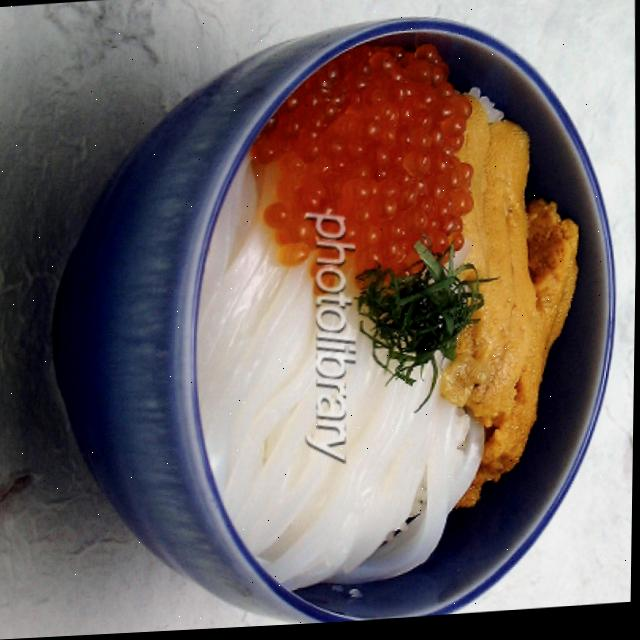刺身生食: (35, 0, 637, 638)
